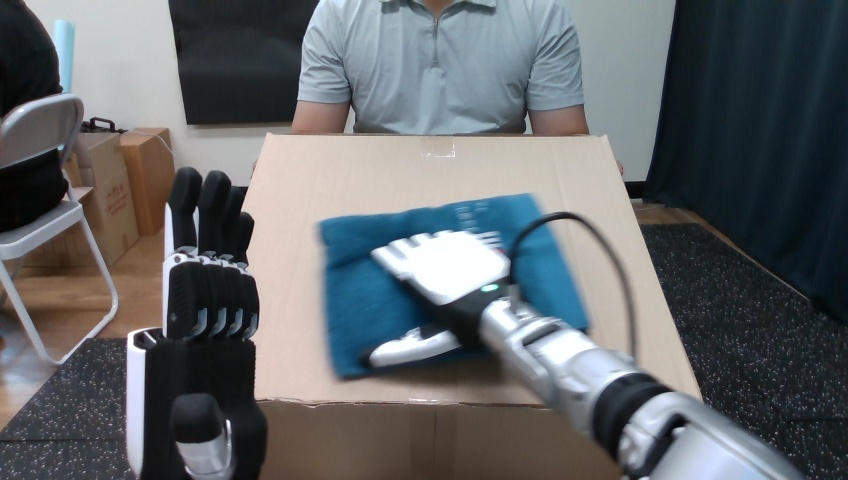left robot hand: (367, 230, 800, 478), (126, 167, 266, 478)
